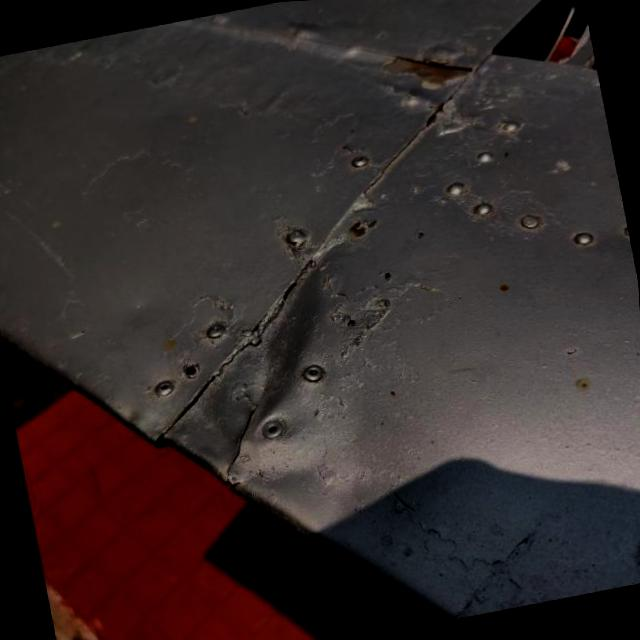Missing Fastener: (173, 358, 216, 383)
dent: (148, 252, 353, 454)
